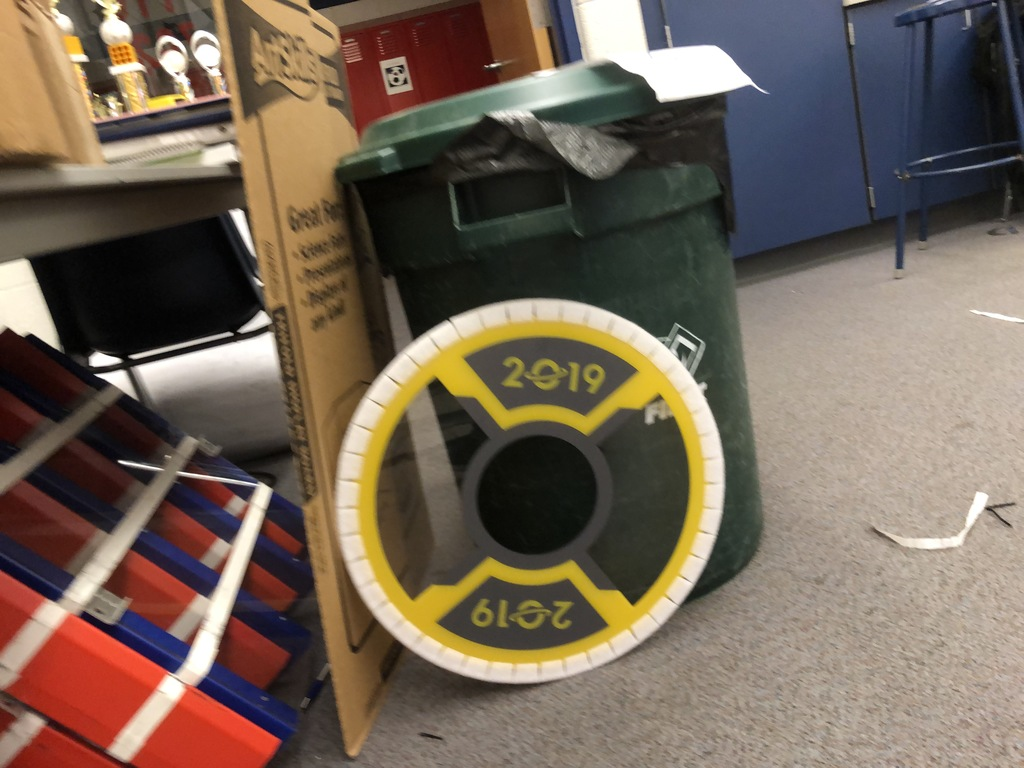hatch_panel: (320, 287, 736, 705)
